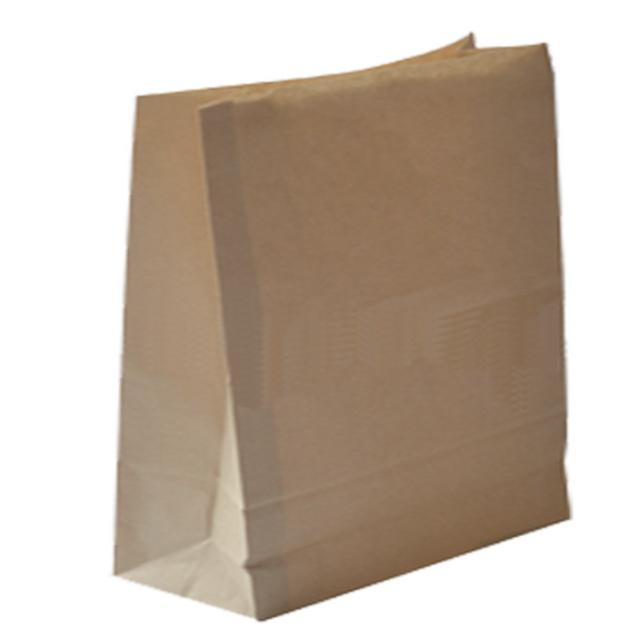biodegradable: (107, 19, 595, 622)
